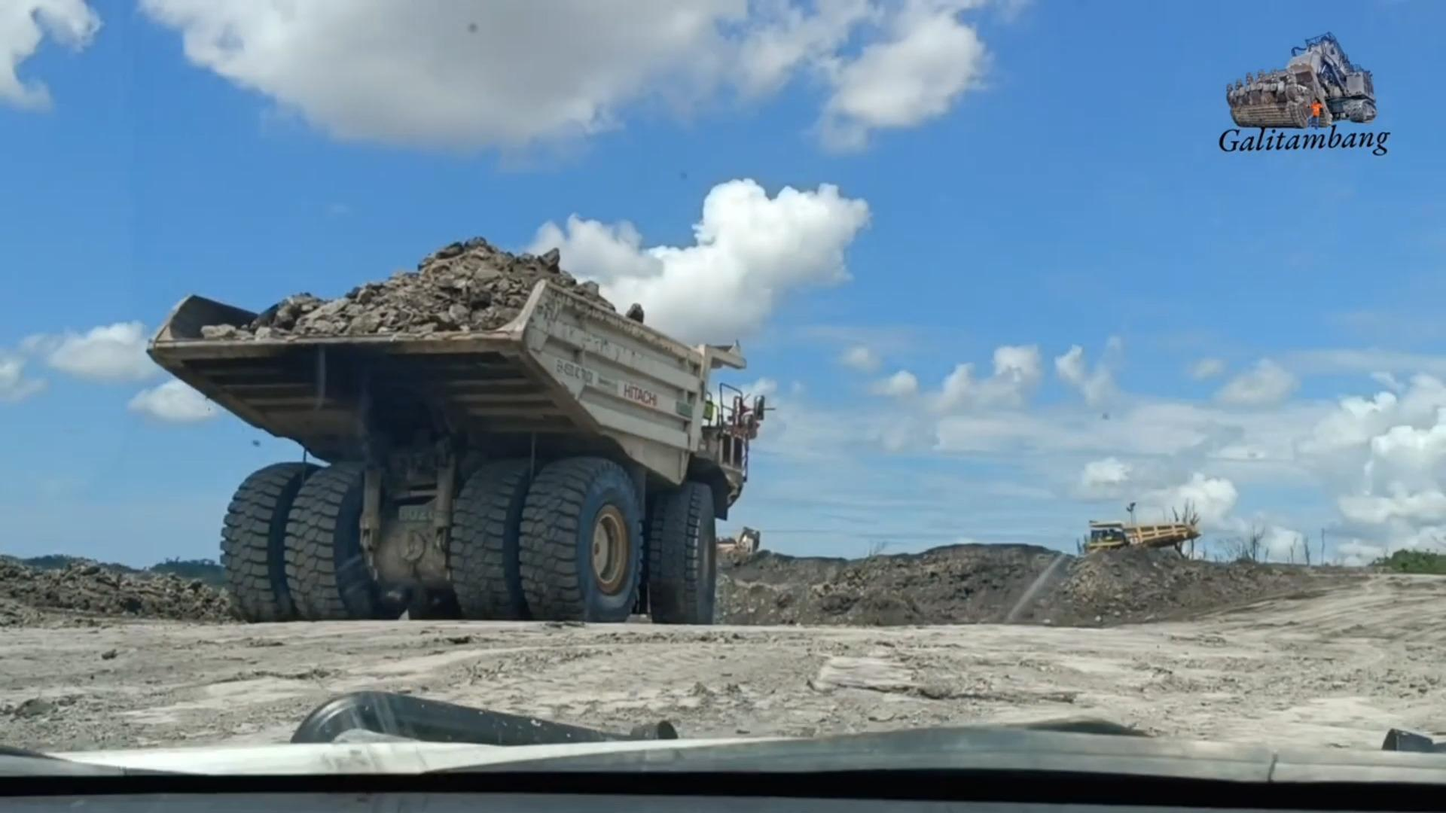HD-Truck: (145, 238, 765, 623)
